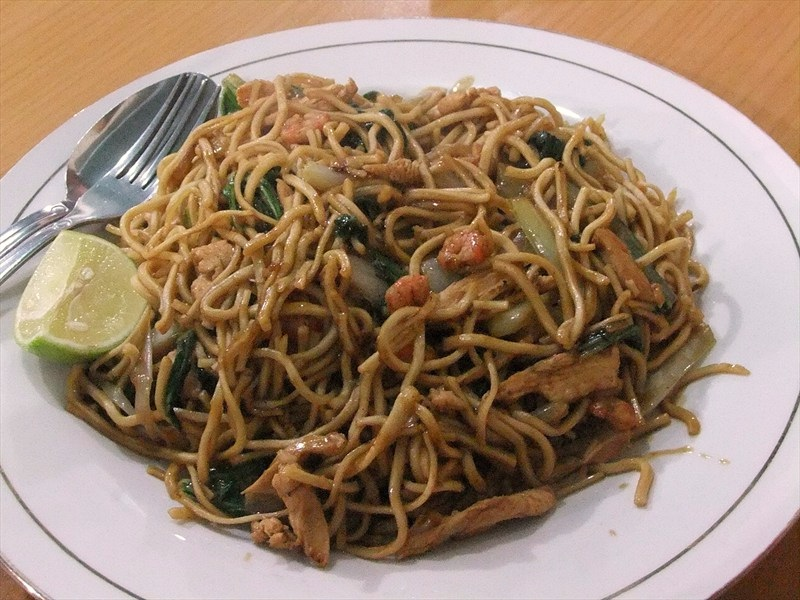Mie Goreng: (132, 114, 668, 521)
